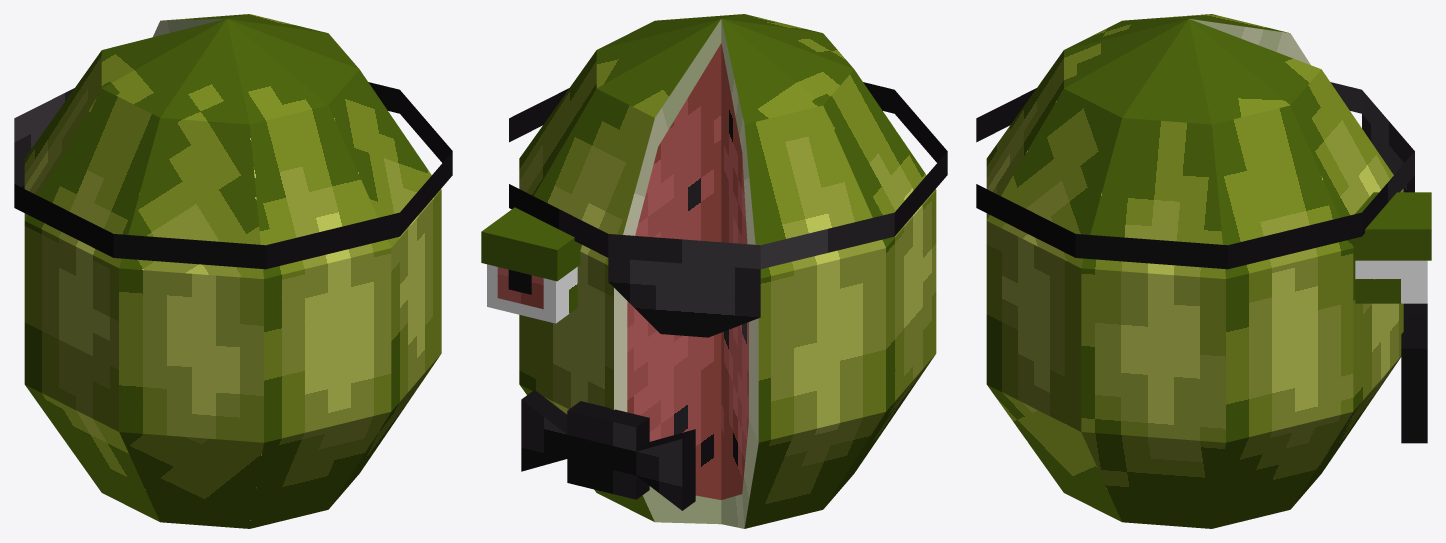
The model's file is watermelon3.gltf.
3 renders of one model, left to right at view 1: azimuth 30°, elevation 25°; view 2: azimuth 150°, elevation 25°; view 3: azimuth 270°, elevation 25°, orthographic.
Parts seen in each view (by area): view 1: outside, circle; view 2: outside, inside (×2), circle, bowtie, cube (×3); view 3: outside, circle, cube (×2), bowtie.
Part boxes in pixels (<box>): outside: <box>24,14,441,528</box>; circle: <box>14,82,452,269</box>; outside: <box>519,14,936,528</box>; inside (×2): <box>627,43,748,499</box>; circle: <box>509,82,947,337</box>; bowtie: <box>521,390,695,510</box>; cube (×3): <box>481,207,581,323</box>; outside: <box>986,14,1403,528</box>; circle: <box>976,82,1414,269</box>; cube (×2): <box>1347,192,1431,303</box>; bowtie: <box>1401,303,1427,443</box>.
Bounding box in the file's own units: 1.05 × 1.31 × 1.07.
1 material, 1 textured.
